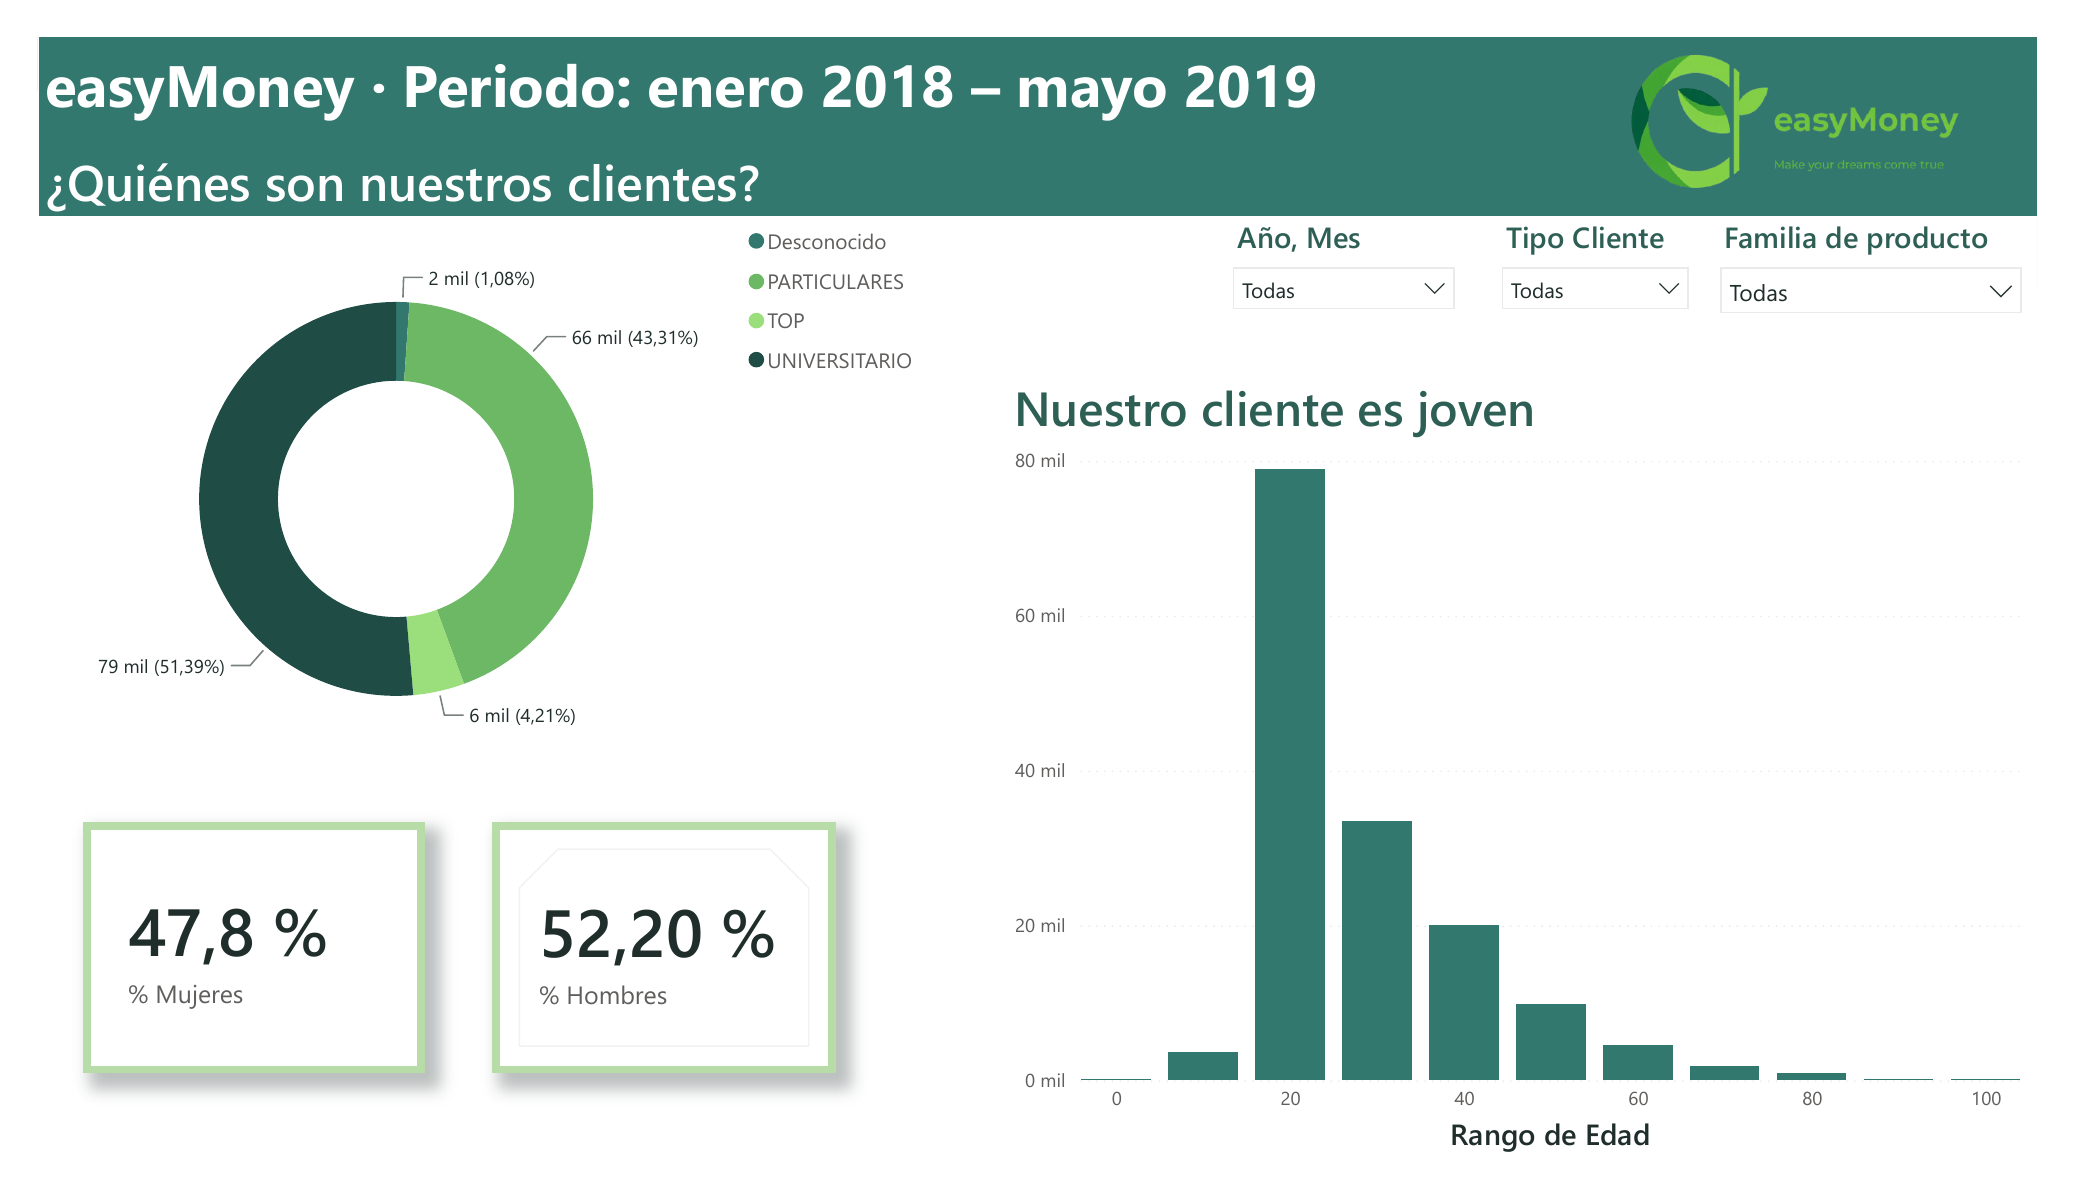

What the dashboard file says about the page in this screenshot:
{"tool":"powerbi","page":{"name":"Página 1","canvas":[1280,720],"ordinal":0},"visuals":[{"type":"group","id":"g1","title":"Grupo 5","box":[564.9,210.3,160,107.1],"z":0,"group":"g14"},{"type":"image","box":[587.9,210.3,115.3,86.7],"z":0,"group":"g1"},{"type":"group","id":"g2","title":"Grupo 2","box":[218.5,210.4,178.6,102.9],"z":0,"group":"g15"},{"type":"image","box":[250.2,210.4,118.6,81.4],"z":0,"group":"g2"},{"type":"group","id":"g3","title":"Grupo 8","box":[457.2,308.4,156.2,118.2],"z":0,"group":"g24"},{"type":"image","box":[477.6,308.4,114.1,96.8],"z":0,"group":"g3"},{"type":"group","id":"g4","title":"Grupo 6","box":[295,315.5,181.4,111.4],"z":0,"group":"g21"},{"type":"image","box":[340.6,315.5,100.7,87.4],"z":0,"group":"g4"},{"type":"image","box":[138.8,316.2,113.6,90.4],"z":0,"group":"g16"},{"type":"actionButton","box":[692.1,351.4,121.1,105.2],"z":0,"group":"g13"},{"type":"image","box":[696.3,355.6,122.9,95.2],"z":0,"group":"g10"},{"type":"group","id":"g5","title":"Grupo 10","box":[574.1,404.9,144.3,112.9],"z":0,"group":"g20"},{"type":"image","box":[597.6,404.9,94.3,92.9],"z":0,"group":"g5"},{"type":"group","id":"g6","title":"Grupo 9","box":[455.4,453.7,142.9,131.4],"z":0,"group":"g23"},{"type":"image","box":[464,453.7,125.7,131.4],"z":0,"group":"g6"},{"type":"group","id":"g7","title":"Grupo 4","box":[100,455.9,188.8,112.5],"z":0,"group":"g17"},{"type":"image","box":[109.5,455.9,167.7,90.9],"z":0,"group":"g7"},{"type":"group","id":"g8","title":"Grupo 7","box":[306.7,456.2,163.8,122.2],"z":0,"group":"g22"},{"type":"image","box":[341.3,456.2,88.4,105.8],"z":0,"group":"g8"},{"type":"cardVisual","fields":{"Data":["Min(ranking_piv_1.Jugador)"]},"box":[306.7,549.6,164.3,29.2],"z":0,"group":"g11"},{"type":"group","id":"g9","title":"Grupo 12","box":[573.4,556.8,142.9,108.6],"z":0,"group":"g19"},{"type":"image","box":[591.3,556.8,103.3,86.9],"z":0,"group":"g9"},{"type":"image","box":[237.6,557.5,90,97.1],"z":0,"group":"g12"},{"type":"actionButton","box":[218.4,561.9,133.3,101.5],"z":0,"group":"g18"},{"type":"actionButton","box":[240.7,209.8,128.4,101.5],"z":1000,"group":"g15"},{"type":"actionButton","box":[583.1,217.6,122.3,97.8],"z":1000,"group":"g14"},{"type":"advancedSlicerVisual","fields":{"Values":["jugadores_info.Jugador"]},"box":[402.2,230.9,86.9,24.8],"z":1000},{"type":"cardVisual","fields":{"Data":["Min(ranking_li_p1.Jugador)"]},"box":[218.5,280.4,178.6,32.9],"z":1000,"group":"g2"},{"type":"cardVisual","fields":{"Data":["Min(ranking_ext_izq_1 (1).Jugador)"]},"box":[564.9,286.8,160,30.6],"z":1000,"group":"g1"},{"type":"actionButton","box":[477.3,308.2,112.5,110.1],"z":1000,"group":"g24"},{"type":"actionButton","box":[305.8,310,151.6,114.9],"z":1000,"group":"g21"},{"type":"actionButton","box":[115.7,319.6,145,108.8],"z":1000,"group":"g16"},{"type":"group","id":"g10","title":"Grupo 11","box":[672.9,355.6,169.3,111.8],"z":1000,"group":"g13"},{"type":"cardVisual","fields":{"Data":["Min(ranking_mc_1 (1).Jugador)"]},"box":[457.2,396.6,156.2,30],"z":1000,"group":"g3"},{"type":"cardVisual","fields":{"Data":["Min(ranking_piv_1.Jugador)"]},"box":[295,398.1,181.4,28.9],"z":1000,"group":"g4"},{"type":"actionButton","box":[594.1,409.2,98.6,108.6],"z":1000,"group":"g20"},{"type":"cardVisual","fields":{"Data":["Min(ranking_dc_1.Jugador)"]},"box":[672.9,434,169.3,33.3],"z":1000,"group":"g10"},{"type":"actionButton","box":[126.2,463.5,136.2,105],"z":1000,"group":"g17"},{"type":"actionButton","box":[476.8,465.1,100,112.9],"z":1000,"group":"g23"},{"type":"actionButton","box":[324.6,469.1,120,97.1],"z":1000,"group":"g22"},{"type":"cardVisual","fields":{"Data":["Min(ranking_mco_1.Jugador)"]},"box":[574.1,485,143.9,33.6],"z":1000,"group":"g5"},{"type":"cardVisual","fields":{"Data":["Min(ranking_ct_1.Jugador)"]},"box":[100,538.4,188.8,30],"z":1000,"group":"g7"},{"type":"cardVisual","fields":{"Data":["Min(ranking_mc_1 (1).Jugador)"]},"box":[455.4,548,142.9,34.3],"z":1000,"group":"g6"},{"type":"group","id":"g11","title":"Grupo 1","box":[306.7,549.6,163.8,28.8],"z":1000,"group":"g8"},{"type":"actionButton","box":[580.6,553.3,117.5,112.5],"z":1000,"group":"g19"},{"type":"group","id":"g12","title":"Grupo 18","box":[198.8,557.5,168.8,111.3],"z":1000,"group":"g18"},{"type":"cardVisual","fields":{"Data":["Min(ranking_ext_der_1 (1).Jugador)"]},"box":[573.4,636.6,142.9,28.8],"z":1000,"group":"g9"},{"type":"cardVisual","fields":{"Data":["Min(ranking_ld_p1.Jugador)"]},"box":[198.8,640.2,168.6,28.6],"z":1000,"group":"g12"},{"type":"actionButton","box":[289,193.4,99.2,80],"z":2000},{"type":"cardVisual","fields":{"Data":["Min(ranking_ct_1.Jugador)"]},"box":[101.9,390.9,176.2,38.8],"z":2000,"group":"g16"},{"type":"cardVisual","fields":{"Data":["Min(ranking_ct_2.Jugador)"]},"box":[96.2,536.8,189.5,30.1],"z":3000},{"type":"actionButton","box":[76.9,410.9,90.1,77.4],"z":4000},{"type":"tableEx","fields":{"Values":["jugadores_info.Jugador","jugadores_info.Equipo","jugadores_info.País","jugadores_info.VM (M€) Jerarquía.VM (M€)","jugadores_info.90 s Jerarquía.90 s","jugadores_info.Edad Jerarquía.Edad","jugadores_info.Contrato Jerarquía.Contrato"]},"box":[825,117.5,455,68.8],"z":5000},{"type":"image","box":[827.1,8.6,80,81.4],"z":6000},{"type":"actionButton","box":[241.2,121.2,203.8,61.2],"z":7000},{"type":"actionButton","box":[507.5,121.2,202.5,61.2],"z":8000},{"type":"image","box":[0,188,830,532.1],"z":9000},{"type":"group","id":"g13","title":"Grupo 13","box":[672.9,351.4,170,115.7],"z":10000},{"type":"image","box":[0,0,204.3,194.3],"z":11000},{"type":"group","id":"g14","title":"Grupo 14","box":[564.9,210.3,160.2,108.8],"z":12000},{"type":"group","id":"g15","title":"Grupo 15","box":[218.5,209.8,178.7,104.3],"z":13000},{"type":"group","id":"g16","title":"Grupo 16","box":[101.9,316.2,176.2,113.4],"z":14000},{"type":"group","id":"g17","title":"Grupo 17","box":[100,455.9,188.8,112.6],"z":15000},{"type":"group","id":"g18","title":"Grupo 19","box":[198.8,557.5,168.8,111.2],"z":16000},{"type":"group","id":"g19","title":"Grupo 20","box":[573.4,553.3,141.8,112.9],"z":17000},{"type":"group","id":"g20","title":"Grupo 21","box":[574.1,404.9,144.6,112.8],"z":18000},{"type":"group","id":"g21","title":"Grupo 22","box":[295,310,180,116.2],"z":19000},{"type":"group","id":"g22","title":"Grupo 23","box":[306.7,456.2,163.8,122.2],"z":20000},{"type":"group","id":"g23","title":"Grupo 24","box":[455.4,453.7,143.7,133.3],"z":21000},{"type":"group","id":"g24","title":"Grupo 25","box":[457.2,308.2,155.8,117.8],"z":22000},{"type":"radarChart5F59D098BB90499F8C33EBEBCEE4FEBF","fields":{"category":["ranking_mco_1.Jugador"],"measure":["Sum(ranking_mco_1.AccDef_pct)","Sum(ranking_mco_1.Acciones creación tiros/90_pct)","Sum(ranking_mco_1.ConduccPrg_pct)","Sum(ranking_mco_1.PasesPrg_pct)","Sum(ranking_mco_1.PClave_pct)","Sum(ranking_mco_1.PasAreaPen_pct)","Sum(ranking_mco_1.Pas3ºAtaq_pct)","Sum(ranking_mco_1.Recuperaciones_pct)","Sum(ranking_mco_1.Tiros_pct)"]},"box":[830,182.5,416.2,372.5],"z":27000},{"type":"tableEx","fields":{"Values":["ranking_mco_1.Jugador","ranking_mco_1.Puntuación_perfil_MCO1","ranking_mco_1.PosicionEspecífica"]},"box":[838.7,519.1,441,201],"z":39000},{"type":"textbox","box":[203.8,23.8,540,60],"z":72000},{"type":"image","box":[980,0,142.9,97.1],"z":73000},{"type":"image","box":[1184.3,2.9,95.7,38.6],"z":74000},{"type":"image","box":[1184.3,41.4,95.7,52.9],"z":75000},{"type":"shape","box":[818.3,0,11.7,720],"z":76000}]}

Visuals, with their boxes on the page's 1280x720 design canvas (x1, y1, x2, y2). These are canvas units, not pixel positions in the 2075x1200 screenshot, which may show the page scaled, cropped or inside an application window:
"Grupo 5" group: BBox(565, 210, 725, 317)
image: BBox(588, 210, 703, 297)
"Grupo 2" group: BBox(218, 210, 397, 313)
image: BBox(250, 210, 369, 292)
"Grupo 8" group: BBox(457, 308, 613, 427)
image: BBox(478, 308, 592, 405)
"Grupo 6" group: BBox(295, 316, 476, 427)
image: BBox(341, 316, 441, 403)
image: BBox(139, 316, 252, 407)
actionButton: BBox(692, 351, 813, 457)
image: BBox(696, 356, 819, 451)
"Grupo 10" group: BBox(574, 405, 718, 518)
image: BBox(598, 405, 692, 498)
"Grupo 9" group: BBox(455, 454, 598, 585)
image: BBox(464, 454, 590, 585)
"Grupo 4" group: BBox(100, 456, 289, 568)
image: BBox(110, 456, 277, 547)
"Grupo 7" group: BBox(307, 456, 470, 578)
image: BBox(341, 456, 430, 562)
cardVisual - Min(ranking_piv_1.Jugador): BBox(307, 550, 471, 579)
"Grupo 12" group: BBox(573, 557, 716, 665)
image: BBox(591, 557, 695, 644)
image: BBox(238, 558, 328, 655)
actionButton: BBox(218, 562, 352, 663)
actionButton: BBox(241, 210, 369, 311)
actionButton: BBox(583, 218, 705, 315)
advancedSlicerVisual - jugadores_info.Jugador: BBox(402, 231, 489, 256)
cardVisual - Min(ranking_li_p1.Jugador): BBox(218, 280, 397, 313)
cardVisual - Min(ranking_ext_izq_1 (1).Jugador): BBox(565, 287, 725, 317)
actionButton: BBox(477, 308, 590, 418)
actionButton: BBox(306, 310, 457, 425)
actionButton: BBox(116, 320, 261, 428)
"Grupo 11" group: BBox(673, 356, 842, 467)
cardVisual - Min(ranking_mc_1 (1).Jugador): BBox(457, 397, 613, 427)
cardVisual - Min(ranking_piv_1.Jugador): BBox(295, 398, 476, 427)
actionButton: BBox(594, 409, 693, 518)
cardVisual - Min(ranking_dc_1.Jugador): BBox(673, 434, 842, 467)
actionButton: BBox(126, 464, 262, 568)
actionButton: BBox(477, 465, 577, 578)
actionButton: BBox(325, 469, 445, 566)
cardVisual - Min(ranking_mco_1.Jugador): BBox(574, 485, 718, 519)
cardVisual - Min(ranking_ct_1.Jugador): BBox(100, 538, 289, 568)
cardVisual - Min(ranking_mc_1 (1).Jugador): BBox(455, 548, 598, 582)
"Grupo 1" group: BBox(307, 550, 470, 578)
actionButton: BBox(581, 553, 698, 666)
"Grupo 18" group: BBox(199, 558, 368, 669)
cardVisual - Min(ranking_ext_der_1 (1).Jugador): BBox(573, 637, 716, 665)
cardVisual - Min(ranking_ld_p1.Jugador): BBox(199, 640, 367, 669)
actionButton: BBox(289, 193, 388, 273)
cardVisual - Min(ranking_ct_1.Jugador): BBox(102, 391, 278, 430)
cardVisual - Min(ranking_ct_2.Jugador): BBox(96, 537, 286, 567)
actionButton: BBox(77, 411, 167, 488)
tableEx - jugadores_info.Jugador x jugadores_info.Equipo: BBox(825, 118, 1280, 186)
image: BBox(827, 9, 907, 90)
actionButton: BBox(241, 121, 445, 182)
actionButton: BBox(508, 121, 710, 182)
image: BBox(0, 188, 830, 720)
"Grupo 13" group: BBox(673, 351, 843, 467)
image: BBox(0, 0, 204, 194)
"Grupo 14" group: BBox(565, 210, 725, 319)
"Grupo 15" group: BBox(218, 210, 397, 314)
"Grupo 16" group: BBox(102, 316, 278, 430)
"Grupo 17" group: BBox(100, 456, 289, 568)
"Grupo 19" group: BBox(199, 558, 368, 669)
"Grupo 20" group: BBox(573, 553, 715, 666)
"Grupo 21" group: BBox(574, 405, 719, 518)
"Grupo 22" group: BBox(295, 310, 475, 426)
"Grupo 23" group: BBox(307, 456, 470, 578)
"Grupo 24" group: BBox(455, 454, 599, 587)
"Grupo 25" group: BBox(457, 308, 613, 426)
radarChart5F59D098BB90499F8C33EBEBCEE4FEBF - ranking_mco_1.Jugador x Sum(ranking_mco_1.AccDef_pct): BBox(830, 182, 1246, 555)
tableEx - ranking_mco_1.Jugador x ranking_mco_1.Puntuación_perfil_MCO1: BBox(839, 519, 1280, 720)
textbox: BBox(204, 24, 744, 84)
image: BBox(980, 0, 1123, 97)
image: BBox(1184, 3, 1280, 42)
image: BBox(1184, 41, 1280, 94)
shape: BBox(818, 0, 830, 720)
